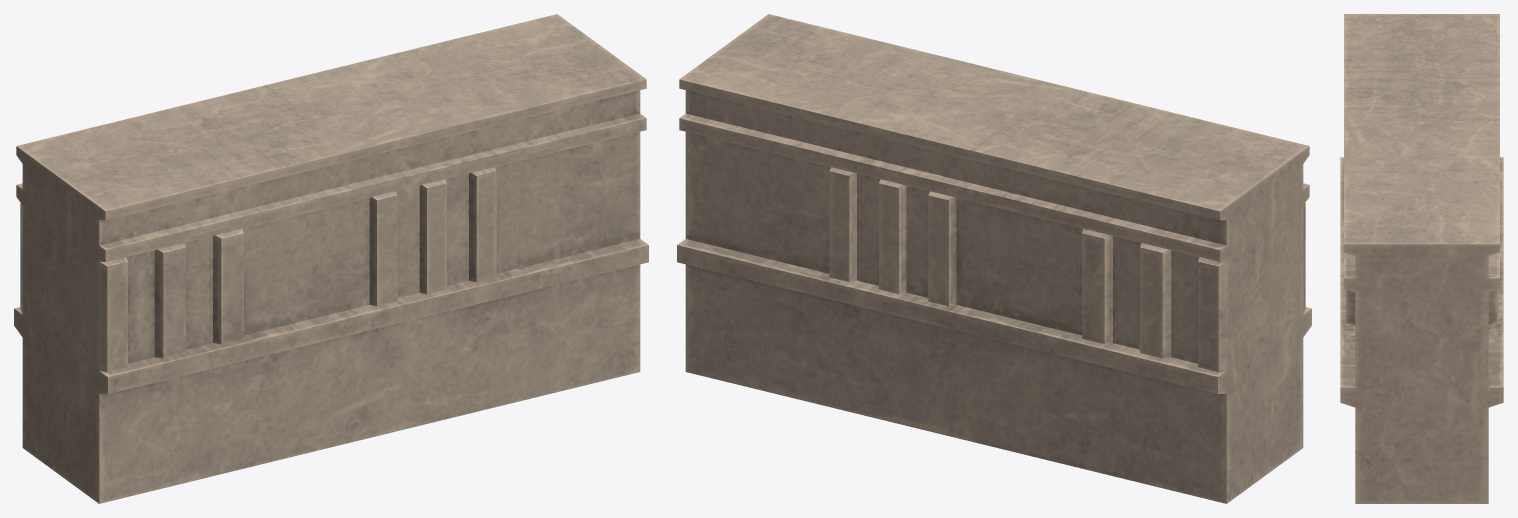
Rendered from Side wall.fbx.
3 renders of one model, left to right at view 1: azimuth 30°, elevation 25°; view 2: azimuth 150°, elevation 25°; view 3: azimuth 270°, elevation 25°, orthographic. The views are drawn at different scales.
Parts seen in each view (by area): view 1: frieze-low-04b; view 2: frieze-low-04b; view 3: frieze-low-04b.
Boxes of the visible parts, box(x1,y1,x2,y2) form: frieze-low-04b: box(14, 14, 648, 503); frieze-low-04b: box(677, 14, 1311, 503); frieze-low-04b: box(1340, 14, 1503, 503).
Bounding box in the file's own units: 400 × 210 × 120.
